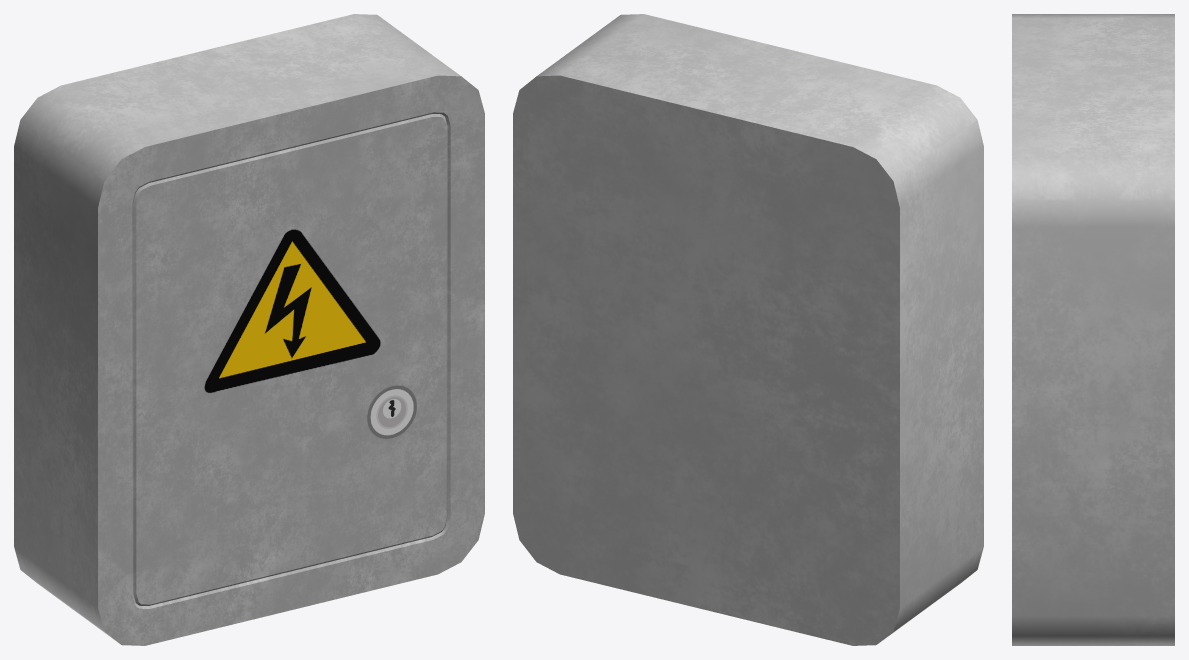
Rendered from FuseBox - Texture.gltf.
3 views of the same model, side by side, from view 1: azimuth 30°, elevation 25°; view 2: azimuth 150°, elevation 25°; view 3: azimuth 270°, elevation 25° (orthographic). The views are drawn at different scales.
Visible parts, largest first — view 1: Plane; view 2: Plane; view 3: Plane.
Boxes of the visible parts, bbox=[...] form: Plane: bbox=[14, 14, 484, 645]; Plane: bbox=[513, 14, 983, 645]; Plane: bbox=[1012, 14, 1174, 645].
Size of the model in its own units: 0.4134 by 0.5097 by 0.1556.
1 material, 1 textured.
